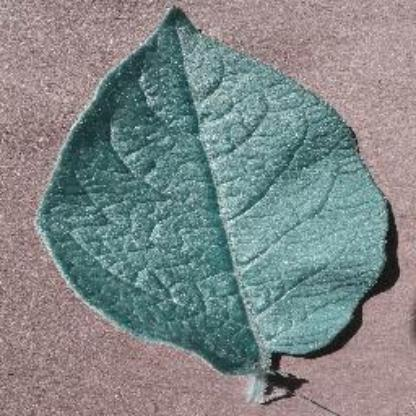Healthy-plant: (33, 4, 392, 404)
